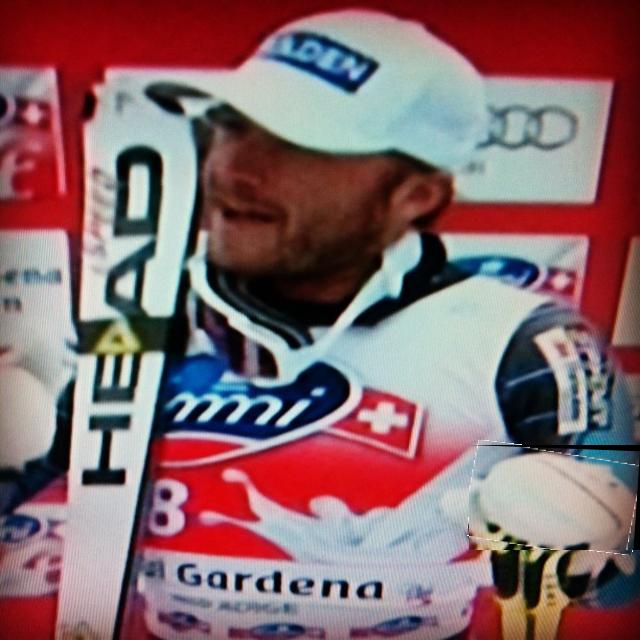Football: (469, 445, 640, 550)
